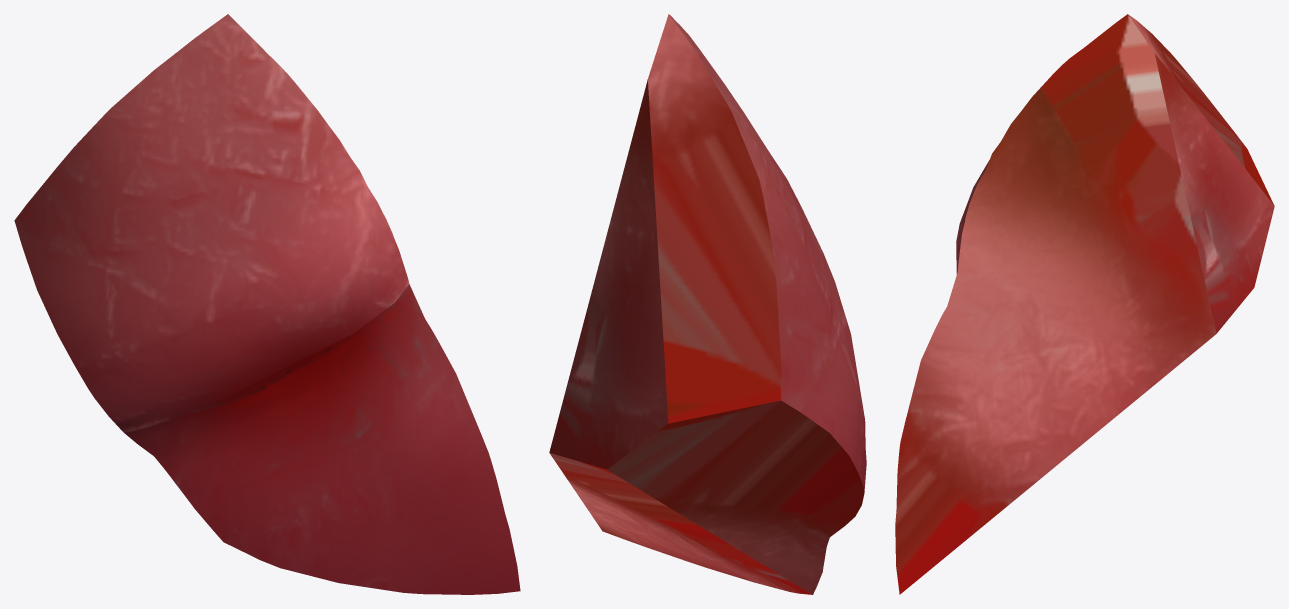
The model's file is SM_HeartPiece_11_.FBX.
3 renders of one model, left to right at view 1: azimuth 30°, elevation 25°; view 2: azimuth 150°, elevation 25°; view 3: azimuth 270°, elevation 25°, orthographic. The views are drawn at different scales.
Parts seen in each view (by area): view 1: SM_HeartPiece_11_; view 2: SM_HeartPiece_11_; view 3: SM_HeartPiece_11_.
Boxes of the visible parts, box(x1,y1,x2,y2) form: SM_HeartPiece_11_: box(14, 14, 520, 594); SM_HeartPiece_11_: box(549, 14, 866, 594); SM_HeartPiece_11_: box(895, 14, 1274, 594).
Bounding box in the file's own units: 217 × 228 × 333.
